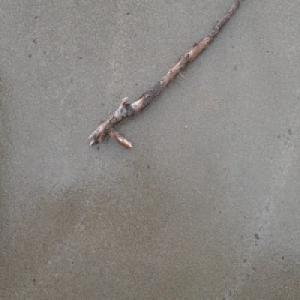Wood: (87, 0, 246, 152)
